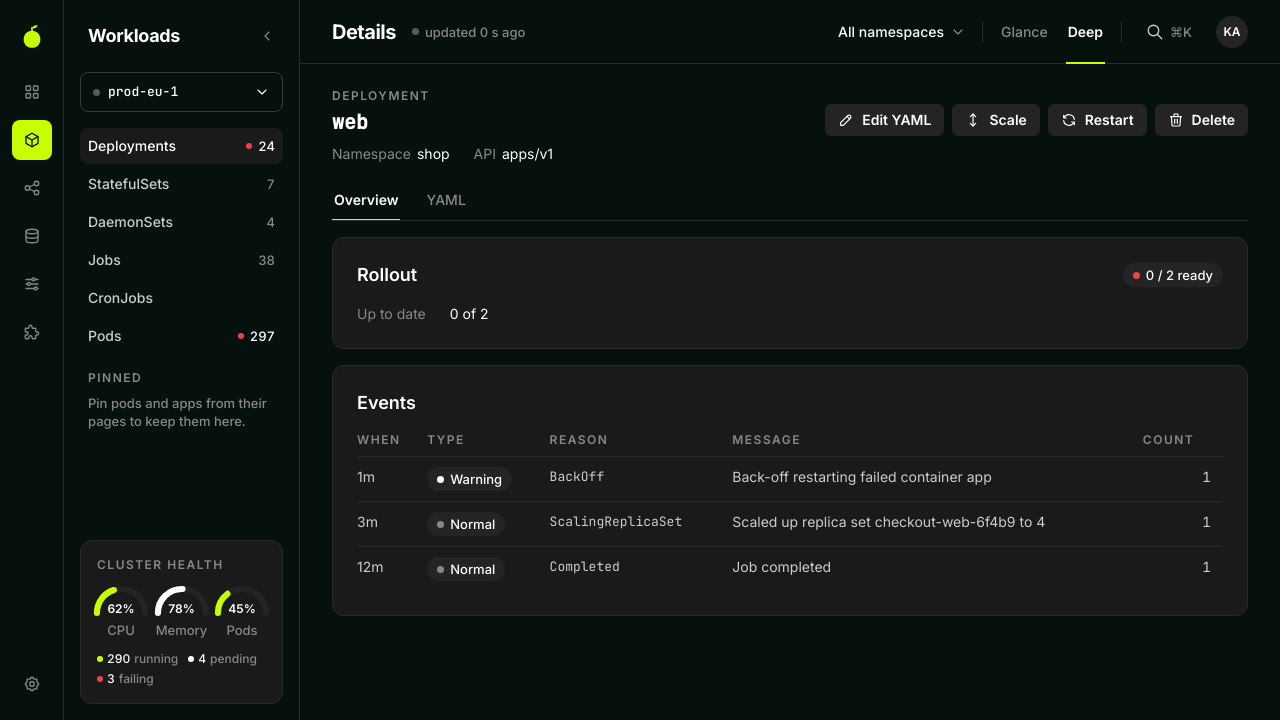
Test case: resource actions › shows the cluster's reason inside the dialog when it refuses
What coordinates should you click on to do the following:
click the button "Scale"
I would click on:
 (996, 120)
Its box is [952,104,1040,136].
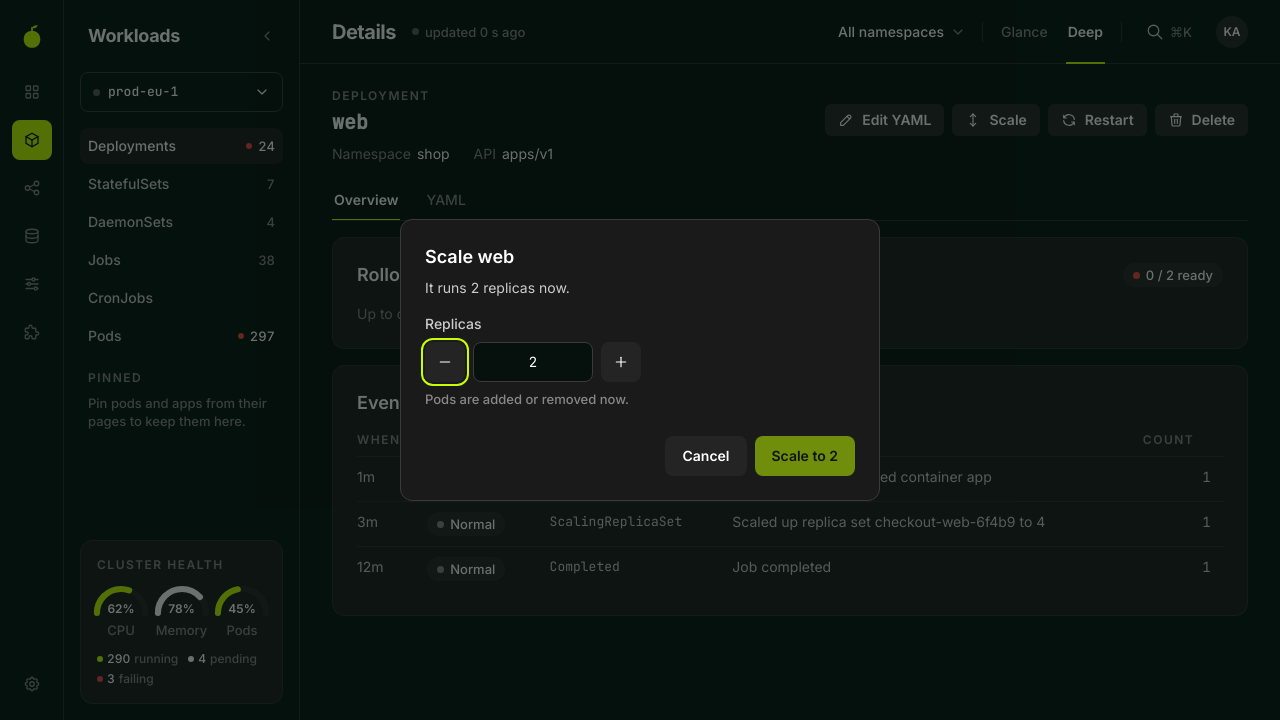
What coordinates should you click on to do the following:
click the button named "One more"
I would click on:
 (621, 362)
Its box is [601,342,641,382].
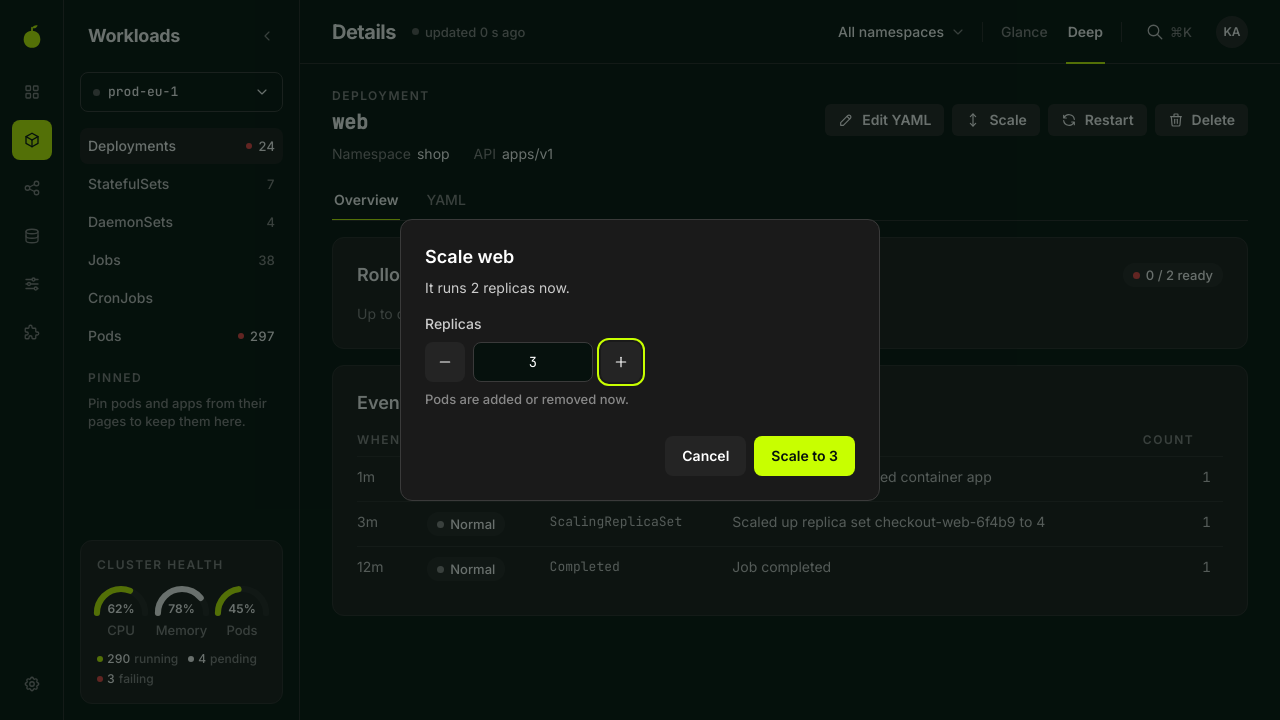
What coordinates should you click on to do the following:
click the button "Scale to 3"
I would click on:
 (805, 456)
Its box is [754,436,855,476].
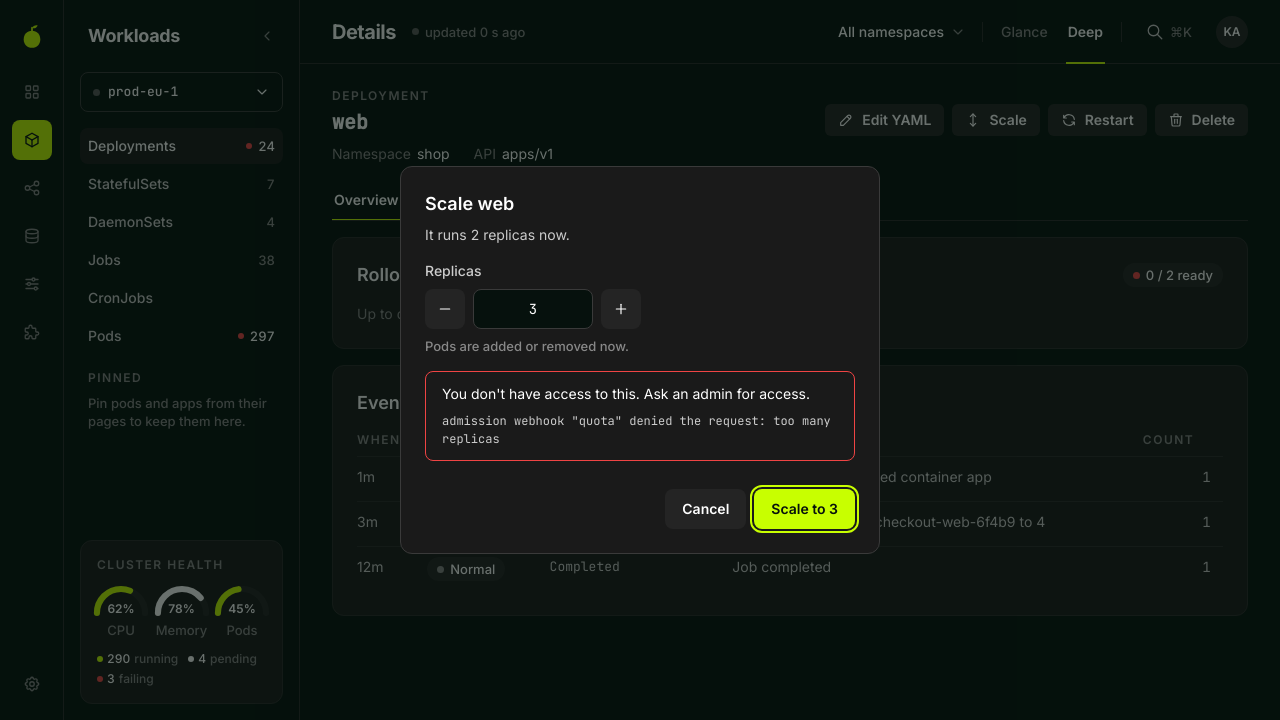
Result: the message shows "too many replicas" at [442,413,838,447]
